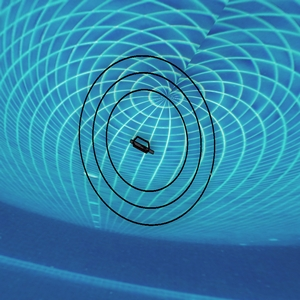circle: (76, 46, 220, 232)
submarine: (126, 134, 154, 156)
